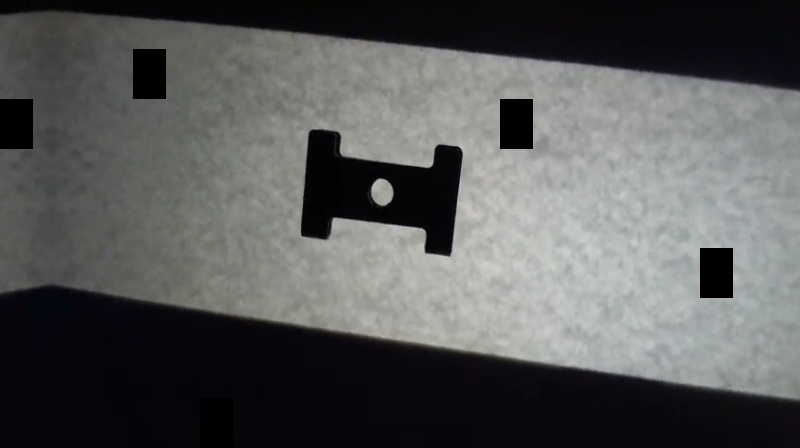O002: (295, 126, 467, 263)
